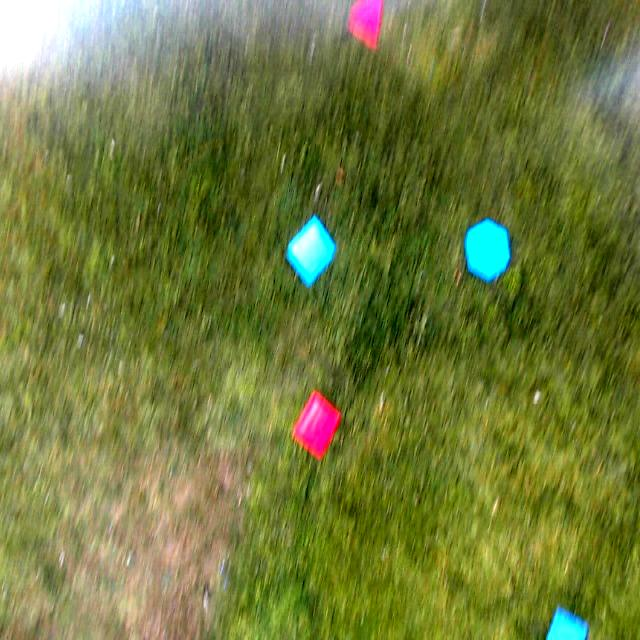blue_hexagon: (466, 220, 510, 280)
blue_square: (285, 215, 335, 286)
red_square: (292, 392, 339, 458)
